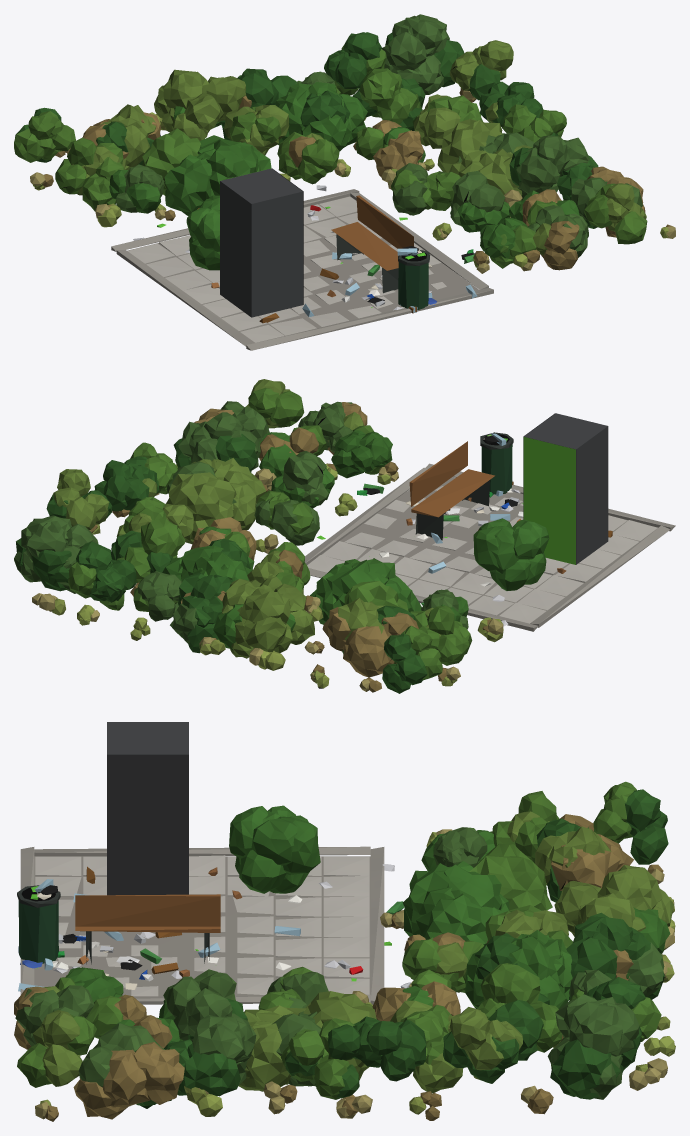
The model's file is automat.glb.
The picture shows the model from 3 angles, top to bottom: view 1: azimuth 30°, elevation 25°; view 2: azimuth 150°, elevation 25°; view 3: azimuth 270°, elevation 25°; orthographic projection. The views are drawn at different scales.
Visible parts, largest first — view 1: dum; view 2: dum; view 3: dum, noc.
Boxes of the visible parts, x1,y1,x2,y2 form: dum: (14,14,675,350); dum: (14,379,675,693); dum: (14,722,675,1121); noc: (107,755,188,895).
Bounding box in the file's own units: 14.44 × 4.2 × 14.52.
Materials: 1 (1 with a texture image).
